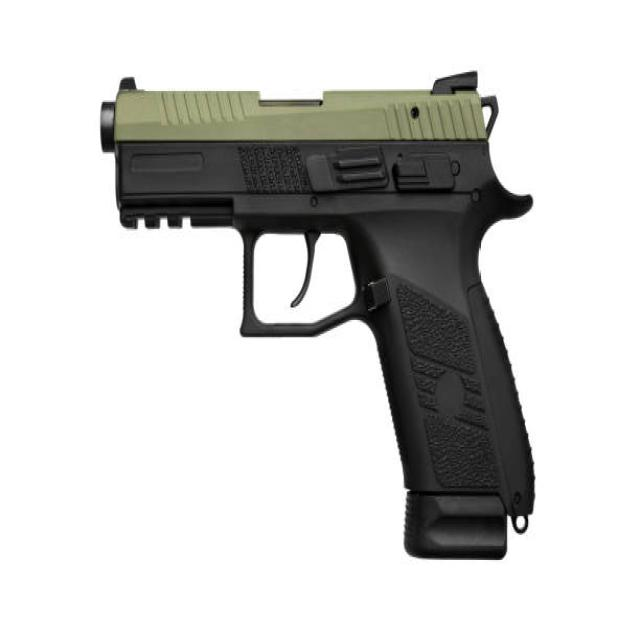pistol: (87, 63, 544, 579)
